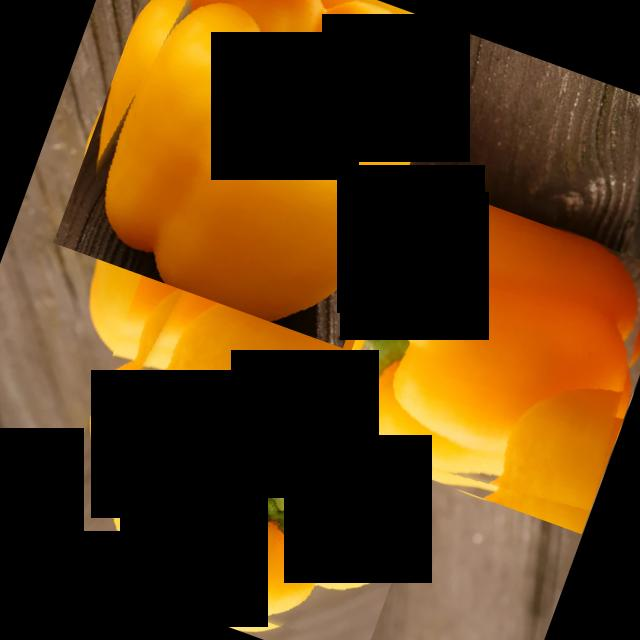pepper: (39, 248, 471, 640), (53, 0, 458, 348), (319, 177, 640, 534)
